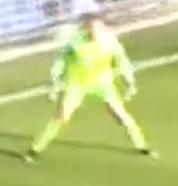goalkeeper: (8, 12, 158, 171)
